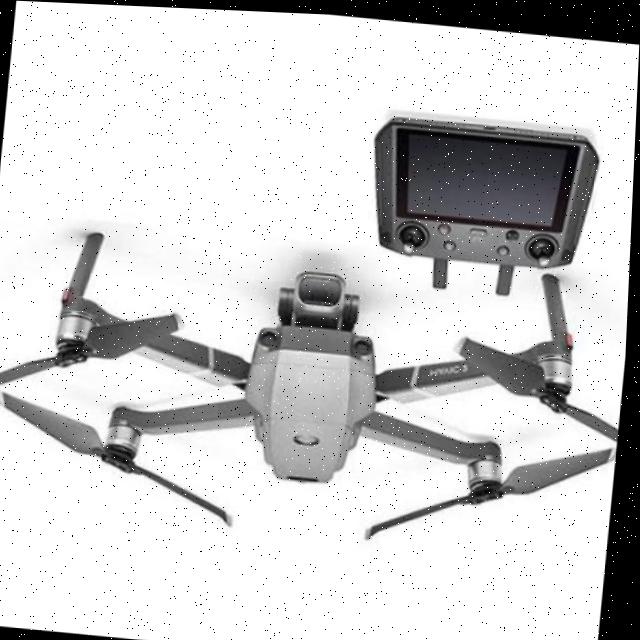drones: (0, 185, 634, 573)
